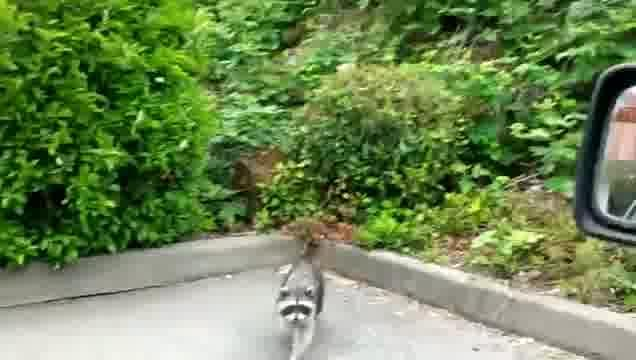raccoon: (276, 239, 325, 360)
